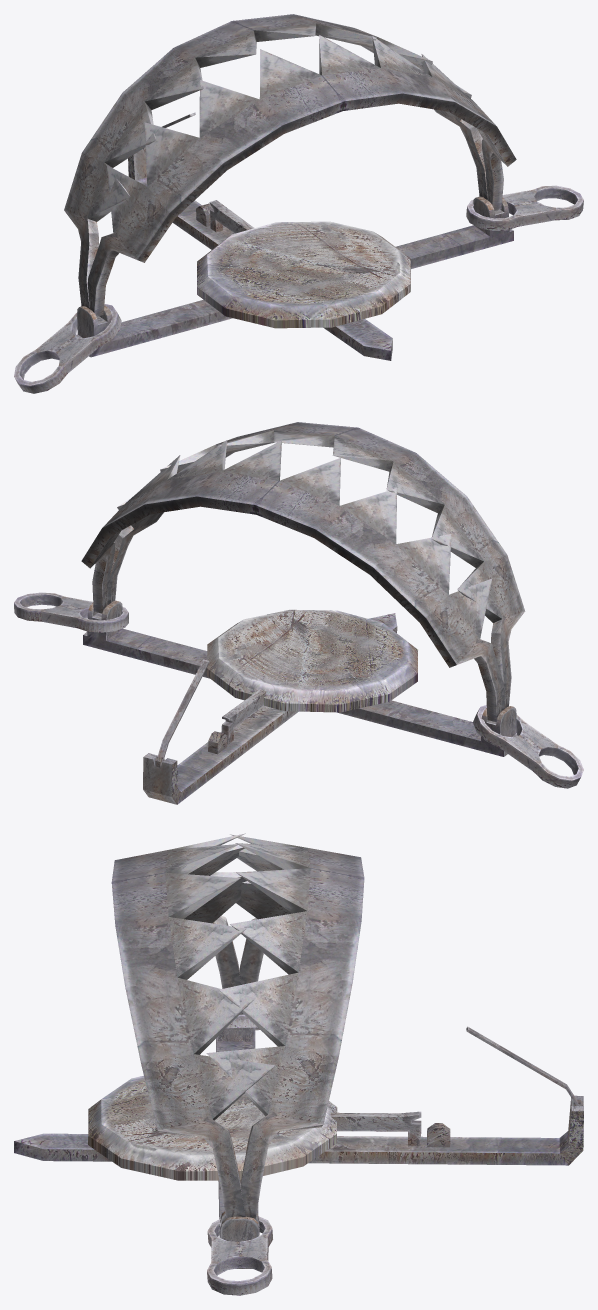
3 views of the same model, one above another, from view 1: azimuth 30°, elevation 25°; view 2: azimuth 150°, elevation 25°; view 3: azimuth 270°, elevation 25° (orthographic). The views are drawn at different scales.
Parts seen in each view (by area): view 1: Trap_LeftSide, Trap_Center, Trap_RightSide, Trap_Cross, Trap_1, Trap_4; view 2: Trap_RightSide, Trap_Center, Trap_LeftSide, Trap_Cross, Trap_1, Trap_4, Trap_3; view 3: Trap_LeftSide, Trap_RightSide, Trap_Cross, Trap_Center, Trap_1, Trap_4, Trap_3.
Boxes of the visible parts, x1=… form: Trap_LeftSide: x1=87, y1=35, x2=516, y2=316; Trap_Center: x1=197, y1=221, x2=410, y2=328; Trap_RightSide: x1=64, y1=14, x2=487, y2=308; Trap_Cross: x1=76, y1=147, x2=513, y2=360; Trap_1: x1=14, y1=185, x2=583, y2=393; Trap_4: x1=209, y1=200, x2=254, y2=233; Trap_RightSide: x1=81, y1=440, x2=504, y2=722; Trap_Center: x1=207, y1=609, x2=417, y2=712; Trap_LeftSide: x1=110, y1=422, x2=525, y2=708; Trap_Cross: x1=83, y1=600, x2=517, y2=804; Trap_1: x1=14, y1=592, x2=583, y2=788; Trap_4: x1=221, y1=689, x2=266, y2=744; Trap_3: x1=158, y1=659, x2=209, y2=763; Trap_LeftSide: x1=111, y1=833, x2=275, y2=1217; Trap_RightSide: x1=206, y1=834, x2=364, y2=1219; Trap_Cross: x1=14, y1=1012, x2=583, y2=1268; Trap_Center: x1=88, y1=1075, x2=337, y2=1180; Trap_1: x1=207, y1=1014, x2=272, y2=1295; Trap_4: x1=330, y1=1111, x2=421, y2=1146; Trap_3: x1=466, y1=1026, x2=579, y2=1105.
Bounding box in the file's own units: 149 × 70.47 × 111.
Materials: 1 (1 with a texture image).
